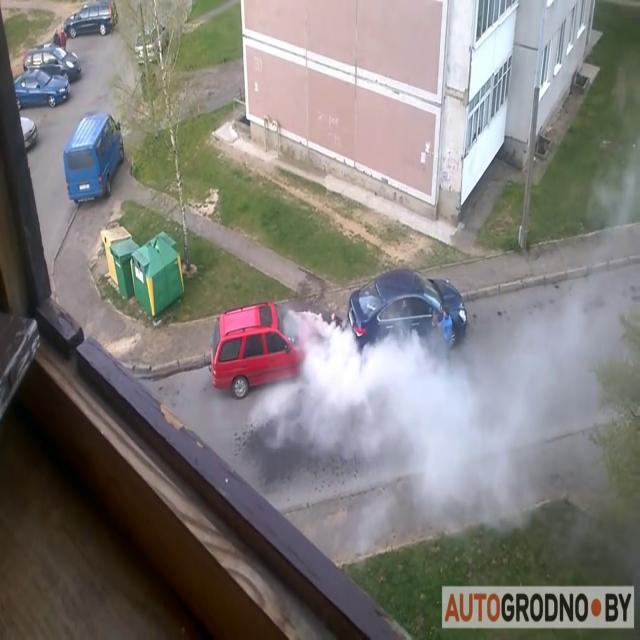Smoke: (284, 256, 634, 538)
